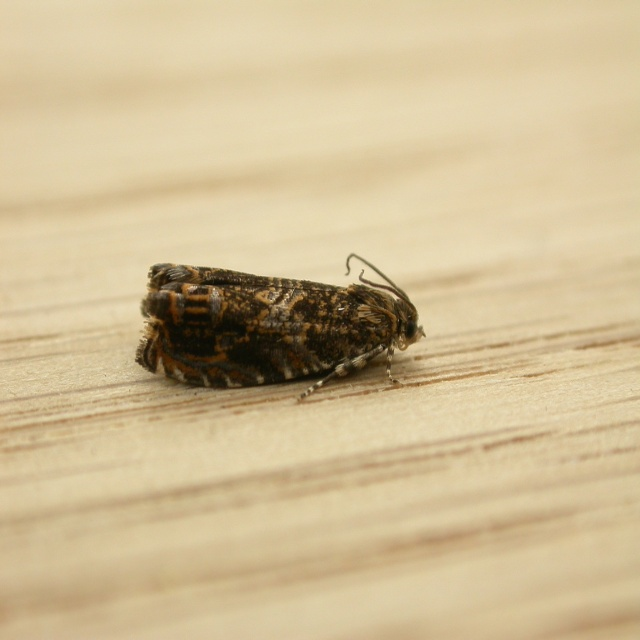Moths and butterflies: (133, 249, 426, 403)
